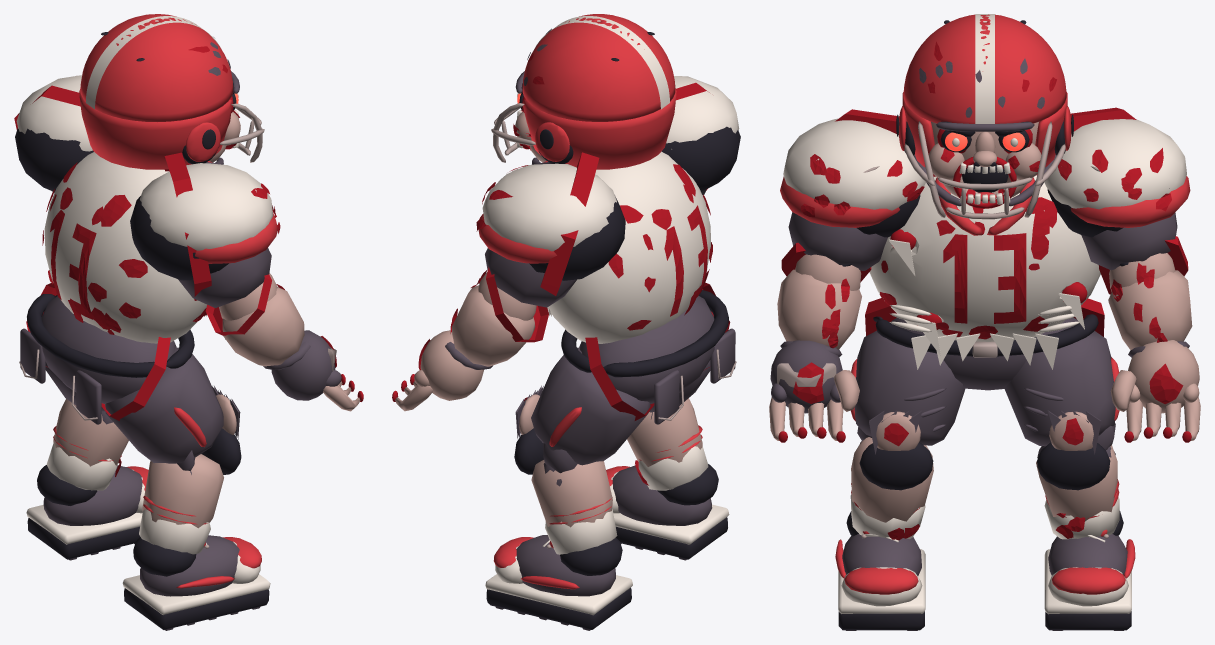
File: inf.armored-football.glb
3 views of the same model, side by side, from view 1: azimuth 30°, elevation 25°; view 2: azimuth 150°, elevation 25°; view 3: azimuth 270°, elevation 25° (orthographic). The views are drawn at different scales.
Visible parts, largest first — view 1: head, torso, armR, hip, footR, legR, footL, shinR, armL, foreArmR, shinL, handR (+4 smaller); view 2: head, torso, armL, hip, footL, legL, footR, shinL, armR, foreArmL, shinR, handL (+3 smaller); view 3: head, torso, armR, armL, legR, legL, footL, footR, shinL, handR, shinR, handL (+7 smaller).
Part boxes in pixels (x1=…): head: x1=79, y1=14, x2=264, y2=169; torso: x1=42, y1=152, x2=225, y2=343; armR: x1=130, y1=163, x2=280, y2=307; hip: x1=19, y1=294, x2=194, y2=424; footR: x1=122, y1=535, x2=270, y2=630; legR: x1=105, y1=347, x2=240, y2=463; footL: x1=26, y1=465, x2=148, y2=560; shinR: x1=139, y1=428, x2=241, y2=554; armL: x1=15, y1=75, x2=93, y2=193; foreArmR: x1=219, y1=273, x2=310, y2=369; shinL: x1=46, y1=399, x2=128, y2=490; handR: x1=271, y1=330, x2=363, y2=411; head: x1=491, y1=14, x2=676, y2=169; torso: x1=543, y1=151, x2=712, y2=343; armL: x1=476, y1=163, x2=625, y2=307; hip: x1=561, y1=290, x2=736, y2=424; footL: x1=485, y1=535, x2=632, y2=630; legL: x1=515, y1=347, x2=650, y2=465; footR: x1=606, y1=464, x2=729, y2=560; shinL: x1=514, y1=428, x2=617, y2=554; armR: x1=661, y1=76, x2=740, y2=195; foreArmL: x1=445, y1=270, x2=536, y2=369; shinR: x1=627, y1=398, x2=708, y2=490; handL: x1=392, y1=330, x2=483, y2=411; head: x1=896, y1=14, x2=1073, y2=219; torso: x1=869, y1=175, x2=1100, y2=369; armR: x1=780, y1=118, x2=925, y2=270; armL: x1=1044, y1=119, x2=1190, y2=270; legR: x1=851, y1=330, x2=965, y2=454; legL: x1=1004, y1=331, x2=1119, y2=454; footL: x1=1044, y1=511, x2=1135, y2=630; footR: x1=835, y1=511, x2=925, y2=630; shinL: x1=1036, y1=423, x2=1119, y2=539; handR: x1=769, y1=340, x2=859, y2=442; shinR: x1=850, y1=427, x2=933, y2=540; handL: x1=1110, y1=340, x2=1200, y2=442.
Bounding box in the file's own units: 0.6902 × 1.63 × 1.08.
